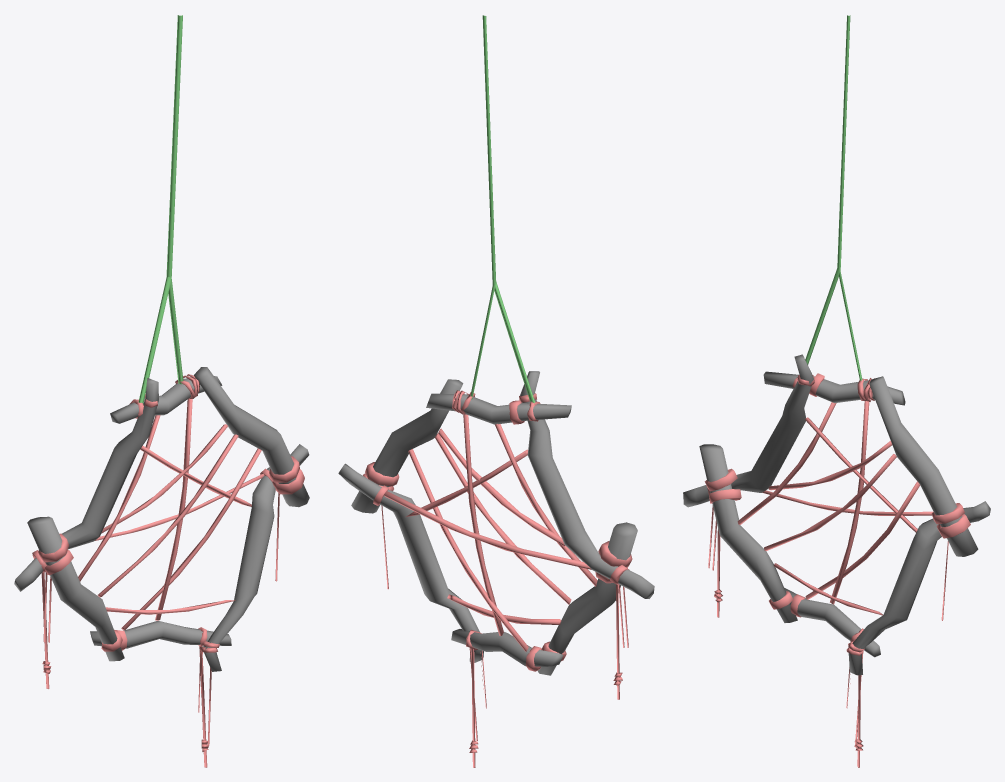
Rendered from Prop_Dreamcatcher_small_01.gltf.
3 renders of one model, left to right at view 1: azimuth 30°, elevation 25°; view 2: azimuth 150°, elevation 25°; view 3: azimuth 330°, elevation 25°, orthographic. The views are drawn at different scales.
Parts seen in each view (by area): view 1: Prop_Dreamcatcher_small_01; view 2: Prop_Dreamcatcher_small_01; view 3: Prop_Dreamcatcher_small_01.
Boxes of the visible parts, x1=… form: Prop_Dreamcatcher_small_01: x1=14, y1=15, x2=309, y2=767; Prop_Dreamcatcher_small_01: x1=338, y1=15, x2=654, y2=767; Prop_Dreamcatcher_small_01: x1=683, y1=15, x2=990, y2=767.
Size of the model in its own units: 0.3972 by 0.9442 by 0.0692.
